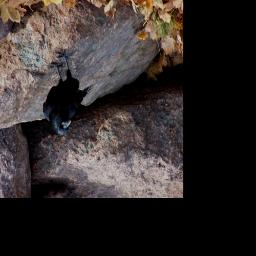Crow: (42, 48, 98, 139)
